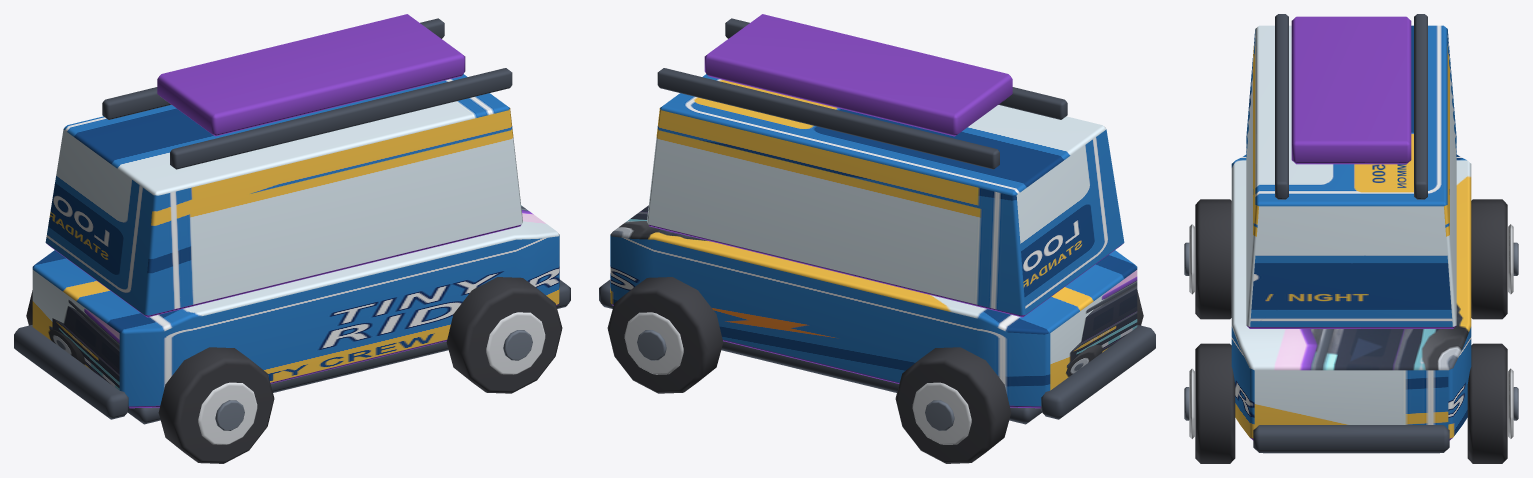
The picture shows the model from 3 angles, left to right: view 1: azimuth 30°, elevation 25°; view 2: azimuth 150°, elevation 25°; view 3: azimuth 270°, elevation 25°; orthographic projection. The views are drawn at different scales.
Visible parts, largest first — view 1: CC-05_cabin, CC-05_connected_shell, utility load, utility rail, Tire.002, Tire, front bumper, Rim, underbody, Rim.002, utility rail.001, Hub (+1 smaller); view 2: CC-05_cabin, CC-05_connected_shell, utility load, utility rail.001, Tire.003, Tire.001, front bumper, Rim.001, underbody, Rim.003, utility rail, Hub.001 (+1 smaller); view 3: CC-05_cabin, CC-05_connected_shell, utility load, rear bumper, Tire.002, Tire.003, Tire, Tire.001, utility rail, utility rail.001, Rim, Rim.001 (+2 smaller).
Boxes of the visible parts, <box> form: CC-05_cabin: <box>45,74,522,317</box>; CC-05_connected_shell: <box>32,205,559,408</box>; utility load: <box>157,14,465,136</box>; utility rail: <box>170,68,512,169</box>; Tire.002: <box>446,277,562,393</box>; Tire: <box>158,347,274,463</box>; front bumper: <box>14,325,129,419</box>; Rim: <box>198,382,257,444</box>; underbody: <box>128,341,448,424</box>; Rim.002: <box>486,312,545,374</box>; utility rail.001: <box>102,18,444,119</box>; Hub: <box>215,400,244,430</box>; CC-05_cabin: <box>647,74,1124,317</box>; CC-05_connected_shell: <box>610,205,1137,408</box>; utility load: <box>704,14,1012,136</box>; utility rail.001: <box>657,68,999,169</box>; Tire.003: <box>607,277,723,393</box>; Tire.001: <box>895,347,1011,463</box>; front bumper: <box>1040,325,1155,419</box>; Rim.001: <box>912,382,971,444</box>; underbody: <box>721,341,1041,424</box>; Rim.003: <box>624,312,683,374</box>; utility rail: <box>725,18,1067,119</box>; Hub.001: <box>925,400,954,430</box>; CC-05_cabin: <box>1246,25,1456,328</box>; CC-05_connected_shell: <box>1231,154,1471,440</box>; utility load: <box>1291,16,1411,164</box>; rear bumper: <box>1253,425,1449,452</box>; Tire.002: <box>1195,343,1235,463</box>; Tire.003: <box>1467,343,1507,463</box>; Tire: <box>1195,199,1231,319</box>; Tire.001: <box>1471,199,1507,319</box>; utility rail: <box>1275,14,1288,199</box>; utility rail.001: <box>1414,14,1427,199</box>; Rim: <box>1189,224,1194,294</box>; Rim.001: <box>1508,224,1513,294</box>.
Bounding box in the file's own units: 358 × 226 × 216.
